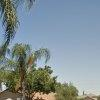Tree: (13, 42, 64, 95)
